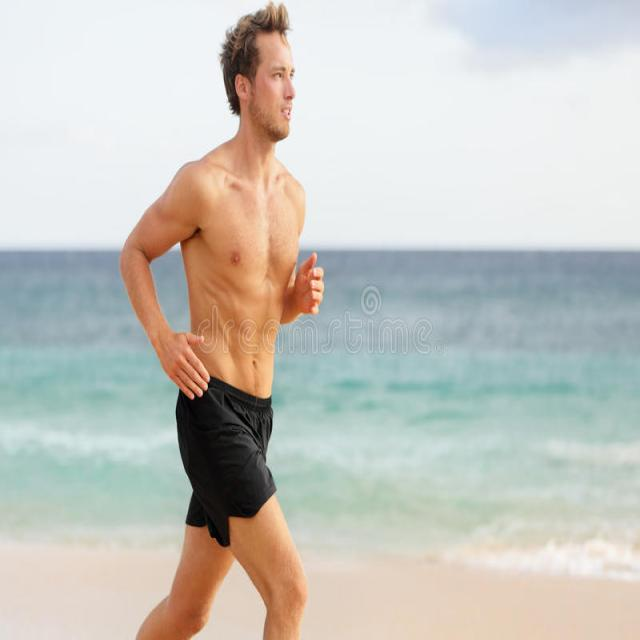running: (118, 3, 322, 640)
